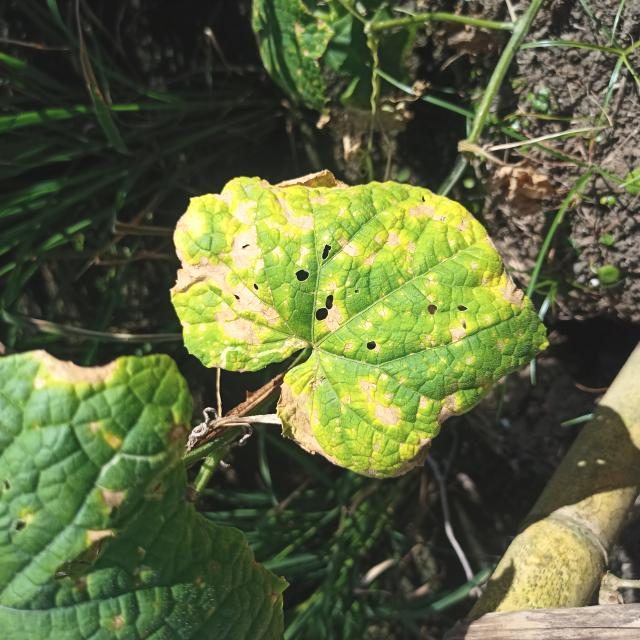disease_cucumber: (176, 163, 527, 478)
